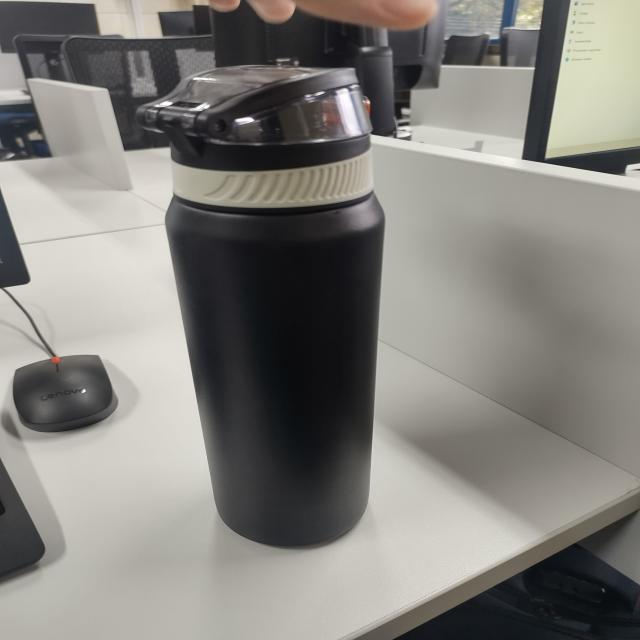Garrafa: (129, 39, 458, 562)
